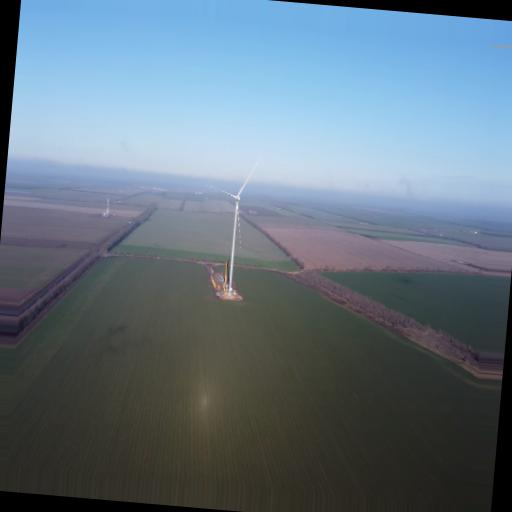wind turbine: (195, 160, 265, 291)
